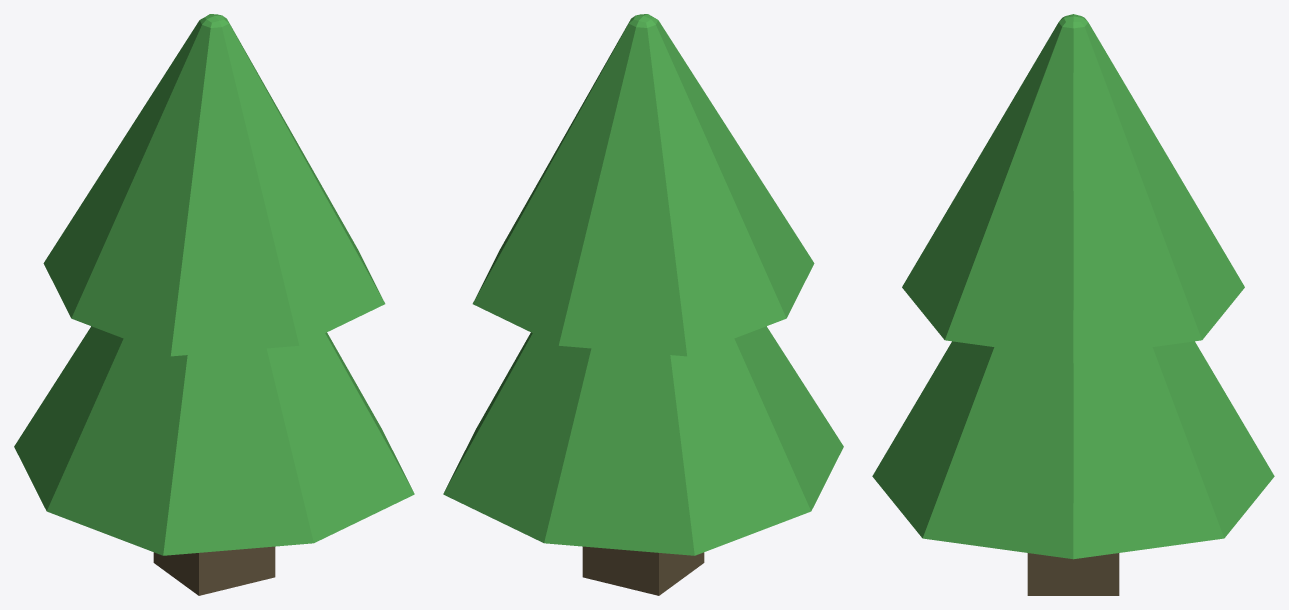
Rendered from Pine_tree.fbx.
3 renders of one model, left to right at view 1: azimuth 30°, elevation 25°; view 2: azimuth 150°, elevation 25°; view 3: azimuth 270°, elevation 25°, orthographic.
Parts seen in each view (by area): view 1: pine_tree1; view 2: pine_tree1; view 3: pine_tree1.
Boxes of the visible parts, bbox=[...] form: pine_tree1: bbox=[14, 14, 414, 595]; pine_tree1: bbox=[443, 14, 843, 595]; pine_tree1: bbox=[872, 14, 1274, 595].
Size of the model in its own units: 3.45 by 5.44 by 3.54.
